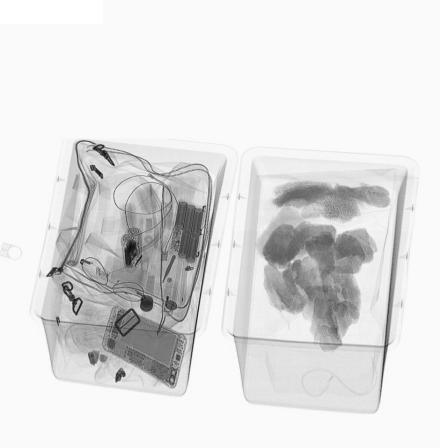Powerbank: (169, 199, 204, 264)
